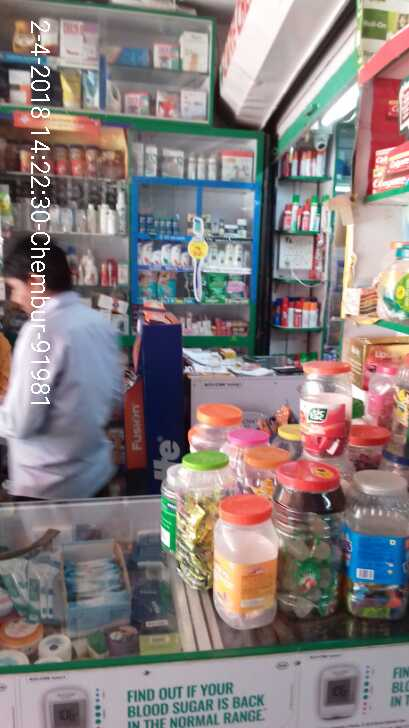vicks: (137, 209, 196, 236)
